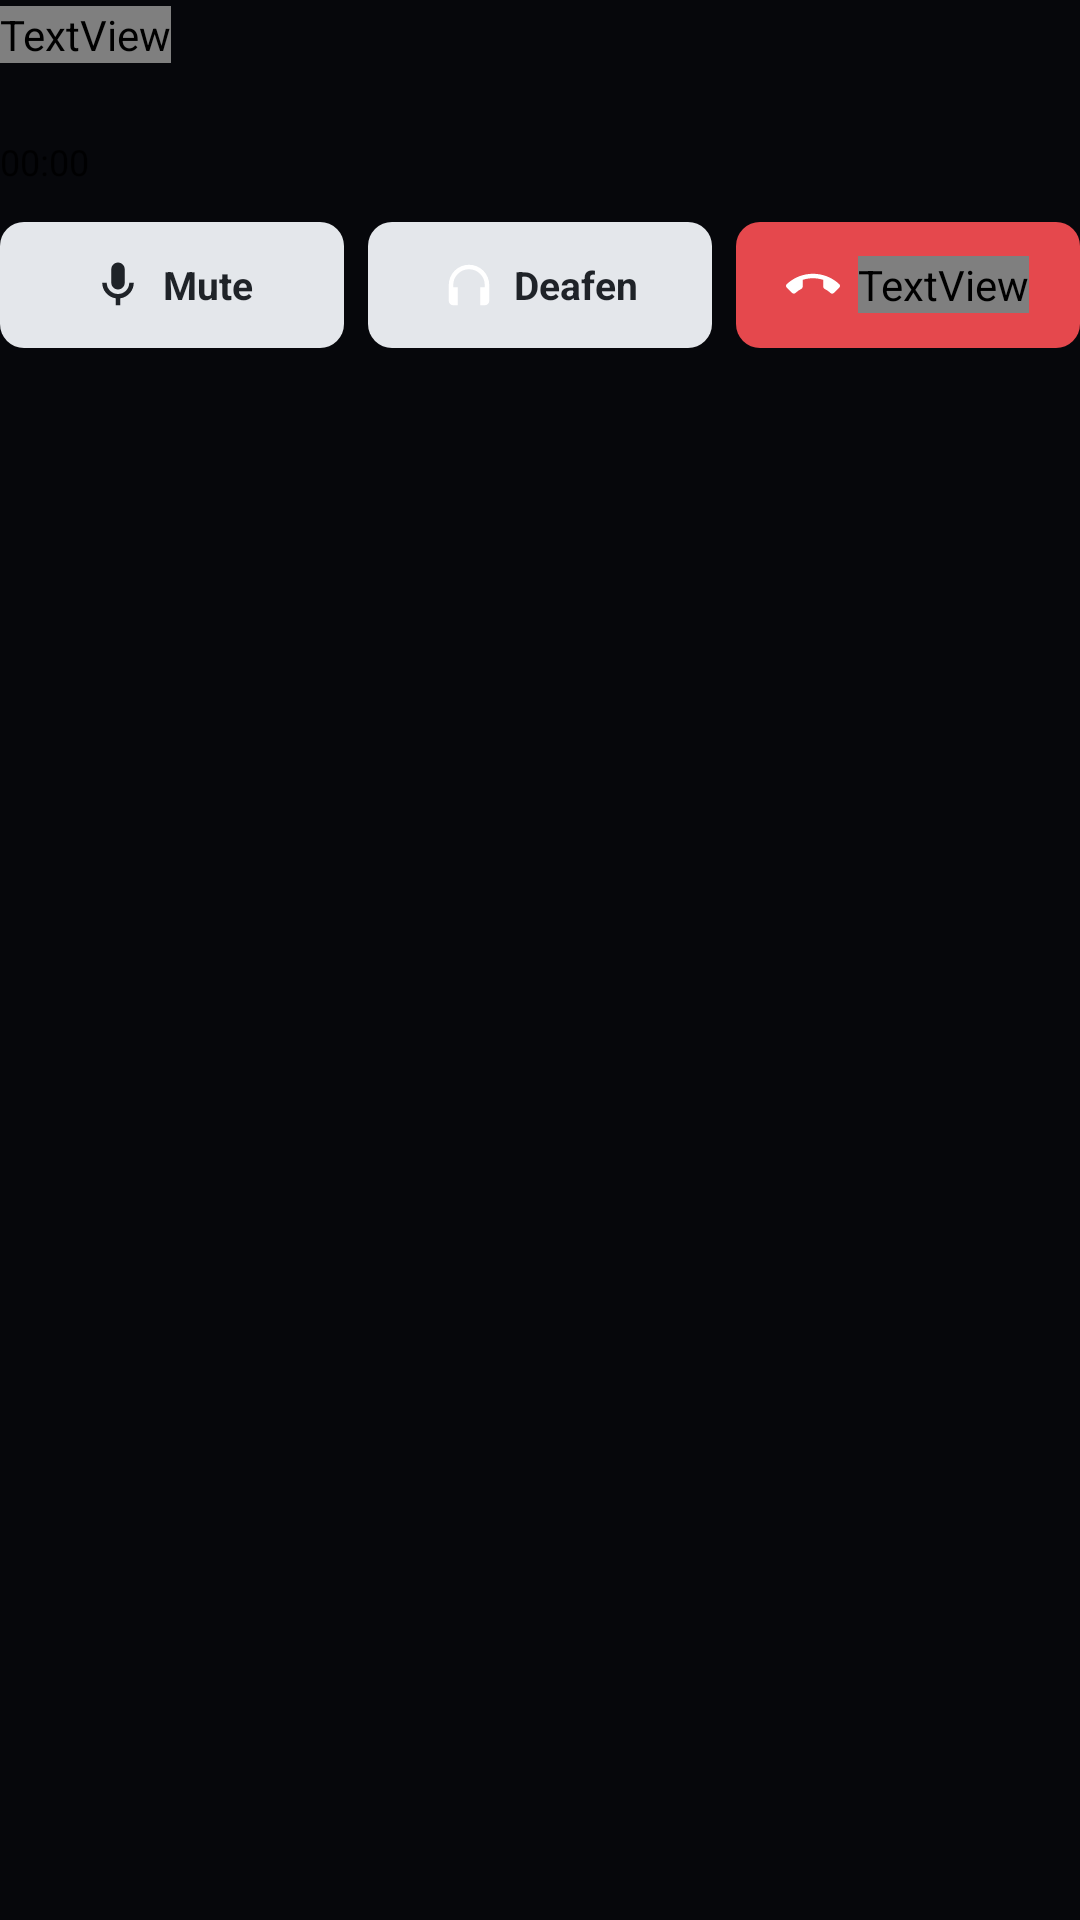

Where to tap for icons on this 1080px×1920px app screen, as (x,y):
call end: (813,283)
call headphones: (469,285)
call mic: (118,284)
